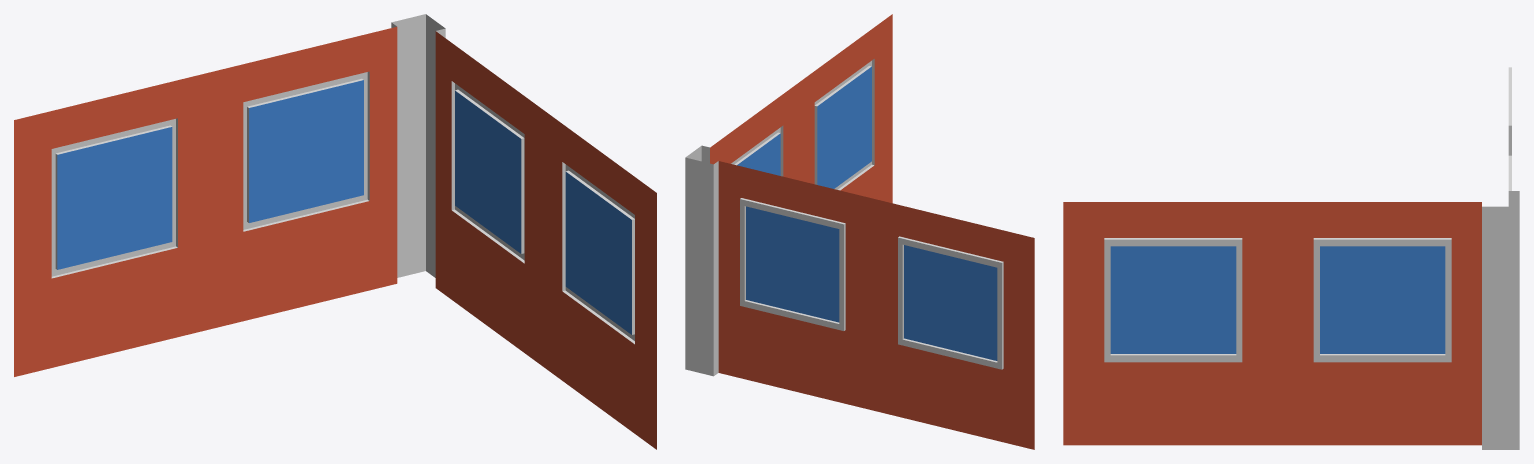
Rendered from 01b_mid.fbx.
The picture shows the model from 3 angles, left to right: view 1: azimuth 30°, elevation 25°; view 2: azimuth 150°, elevation 25°; view 3: azimuth 270°, elevation 25°; orthographic projection. The views are drawn at different scales.
Parts seen in each view (by area): view 1: 01b_Mid; view 2: 01b_Mid; view 3: 01b_Mid.
Part boxes in pixels (left/top/right/bottom): 01b_Mid: left=14, top=14, right=656, bottom=449; 01b_Mid: left=685, top=14, right=1034, bottom=449; 01b_Mid: left=1063, top=67, right=1519, bottom=449.
Size of the model in its own units: 42.5 by 42.5 by 25.
